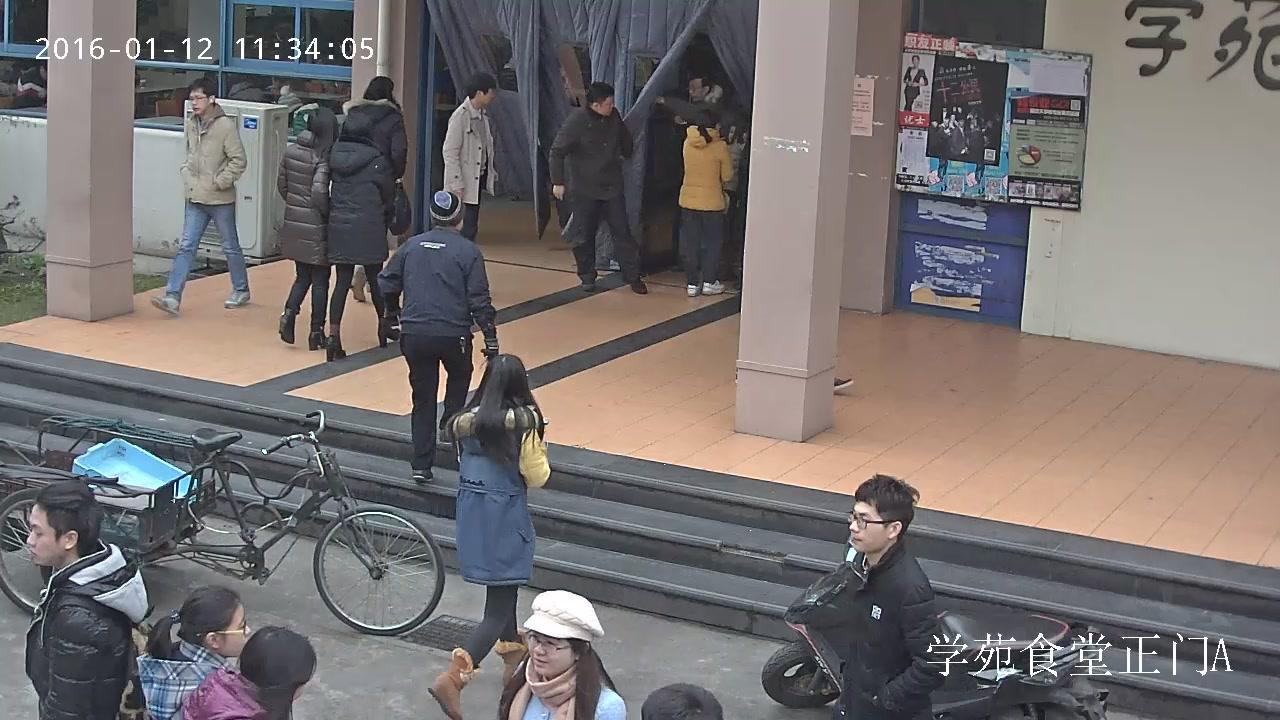person: (426, 354, 551, 720), (378, 191, 498, 482), (25, 478, 147, 720), (840, 473, 947, 720), (151, 77, 250, 315), (549, 82, 647, 294), (326, 115, 399, 361), (498, 589, 626, 720), (135, 584, 251, 720), (343, 76, 409, 302), (168, 625, 317, 720), (277, 107, 335, 350), (656, 72, 724, 267), (678, 109, 734, 295), (442, 72, 498, 239), (15, 58, 47, 109), (903, 55, 927, 111), (227, 73, 266, 102)
